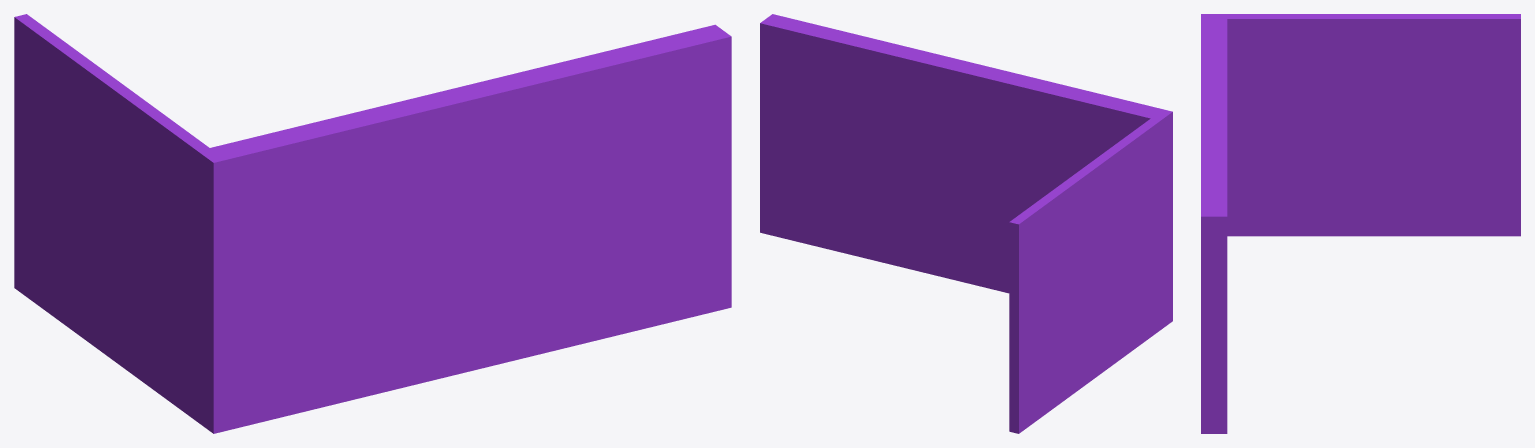
The picture shows the model from 3 angles, left to right: view 1: azimuth 30°, elevation 25°; view 2: azimuth 150°, elevation 25°; view 3: azimuth 270°, elevation 25°; orthographic projection. The views are drawn at different scales.
Visible parts, largest first — view 1: RobotHand; view 2: RobotHand; view 3: RobotHand.
Part boxes in pixels (x1,y1,x2,y2): RobotHand: [14, 14, 731, 433]; RobotHand: [760, 14, 1172, 433]; RobotHand: [1201, 14, 1520, 433].
Size of the model in its own units: 0.12 by 0.06 by 0.08.
